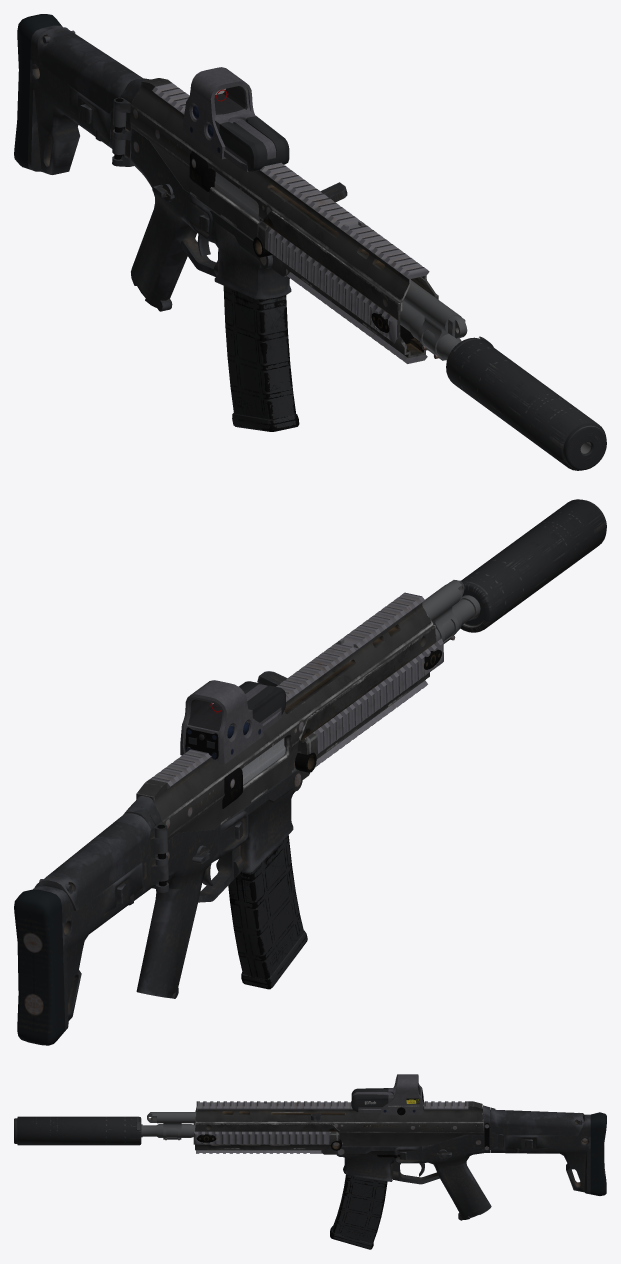
The model's file is player-viewmodel-clean.glb.
The picture shows the model from 3 angles, top to bottom: view 1: azimuth 30°, elevation 25°; view 2: azimuth 150°, elevation 25°; view 3: azimuth 270°, elevation 25°; orthographic projection. The views are drawn at different scales.
Visible parts, largest first — view 1: Rifle, Silencer, Magazine, Scope; view 2: Rifle, Silencer, Magazine, Scope; view 3: Rifle, Silencer, Magazine, Scope.
Boxes of the visible parts, box(x1,y1,x2,y2) form: Rifle: box(14, 14, 467, 363); Silencer: box(446, 336, 606, 470); Magazine: box(223, 286, 299, 431); Scope: box(183, 67, 289, 172); Rifle: box(14, 580, 480, 1045); Silencer: box(459, 499, 606, 632); Magazine: box(228, 835, 307, 989); Scope: box(180, 680, 285, 764); Rifle: box(141, 1101, 606, 1220); Silencer: box(14, 1116, 141, 1145); Magazine: box(330, 1175, 387, 1249); Scope: box(351, 1074, 423, 1115).
Bounding box in the file's own units: 0.0881 × 0.3863 × 1.21.
4 materials, 4 textured.
